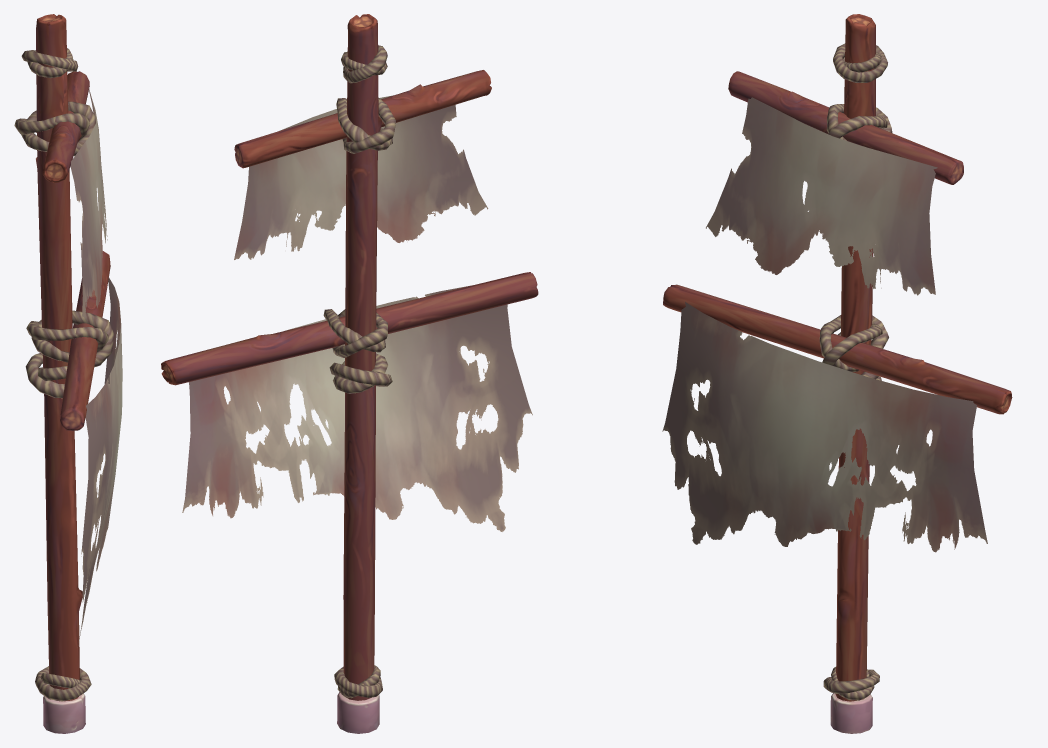
Rendered from Mast_mesh.fbx.
The picture shows the model from 3 angles, left to right: view 1: azimuth 30°, elevation 25°; view 2: azimuth 150°, elevation 25°; view 3: azimuth 270°, elevation 25°; orthographic projection.
Visible parts, largest first — view 1: Mast_mesh; view 2: Mast_mesh; view 3: Mast_mesh.
Boxes of the visible parts, x1=… form: Mast_mesh: x1=14, y1=14, x2=122, y2=733; Mast_mesh: x1=161, y1=14, x2=538, y2=733; Mast_mesh: x1=662, y1=14, x2=1012, y2=733.
Bounding box in the file's own units: 5.4 × 15 × 7.87.
